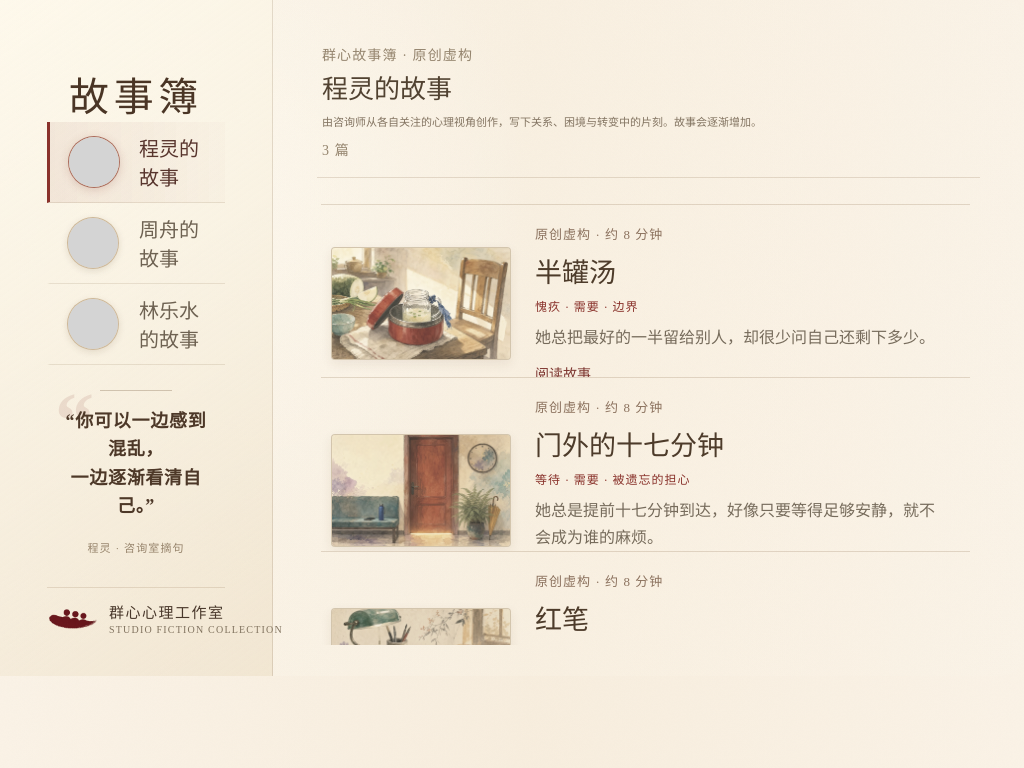
BookcaseFeature › 在佛经故事改写的阅读页标注公开来源
The image size is (1024, 768).
Click the button "林乐水的故事" at (136, 324), box [47, 284, 225, 365]
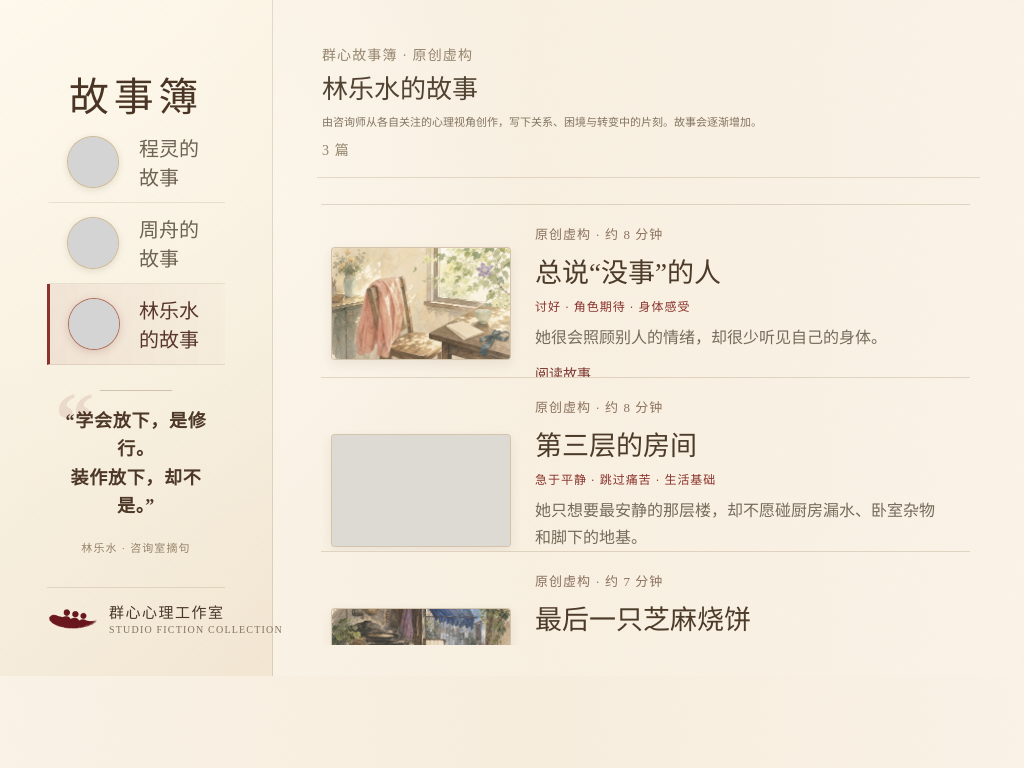
Click the button with aria-label "打开《第三层的房间》" at (421, 490), box [321, 378, 970, 552]
(page scrolled)
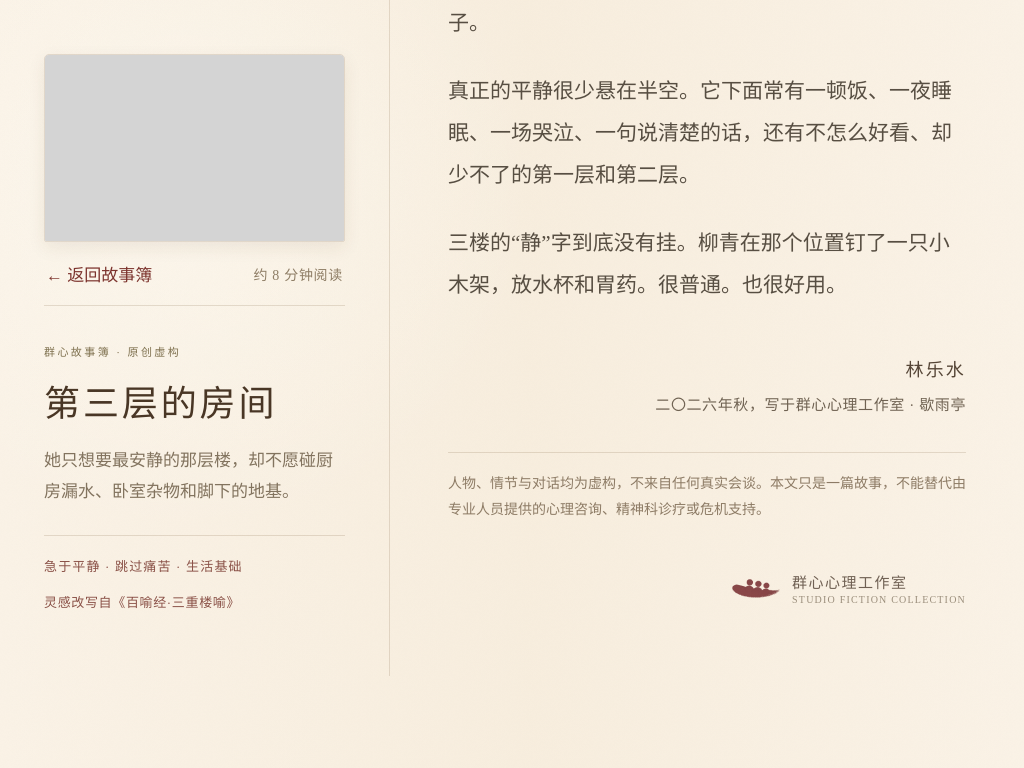
Result: the text "灵感改写自《百喻经·三重楼喻》" is shown at [44, 595, 240, 610]
Result: the text "人物、情节与对话均为虚构，不来自任何真实会谈。本文只是一篇故事，不能替代由专业人员提供的心理咨询、精神科诊疗或危机支持。" is shown at [448, 452, 966, 522]
